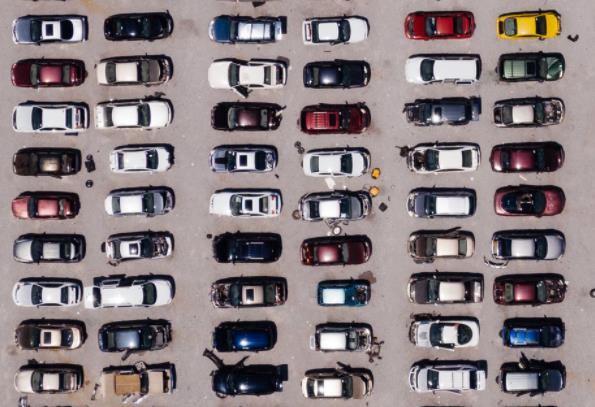car: (204, 54, 289, 98), (83, 274, 175, 311), (99, 361, 180, 402), (485, 227, 567, 267), (493, 355, 568, 398), (403, 47, 483, 87), (401, 136, 481, 176), (8, 8, 92, 46), (95, 318, 172, 359), (293, 187, 376, 225), (92, 95, 178, 131), (295, 98, 374, 137), (91, 51, 176, 87), (13, 98, 90, 137), (208, 228, 285, 267), (492, 270, 569, 309), (408, 270, 487, 308), (208, 274, 288, 311), (207, 363, 289, 399), (98, 227, 175, 265), (404, 361, 490, 395), (207, 11, 286, 48), (296, 232, 379, 267), (487, 139, 565, 176), (490, 184, 571, 218), (401, 96, 484, 129), (10, 53, 84, 90), (407, 313, 481, 350), (298, 11, 373, 47), (301, 365, 376, 401), (208, 98, 285, 133), (403, 8, 480, 43), (407, 223, 476, 262), (299, 57, 375, 92), (491, 95, 567, 130), (11, 315, 86, 350), (14, 361, 86, 397), (10, 146, 84, 181), (10, 231, 84, 266), (205, 188, 285, 220), (206, 139, 281, 173), (307, 319, 377, 355), (404, 185, 478, 219), (101, 9, 174, 43), (301, 144, 374, 178), (496, 316, 568, 350), (495, 49, 566, 83), (491, 8, 564, 41), (102, 185, 177, 217), (209, 319, 281, 352), (11, 276, 83, 308), (107, 142, 175, 175), (10, 191, 78, 223), (311, 275, 372, 308)
